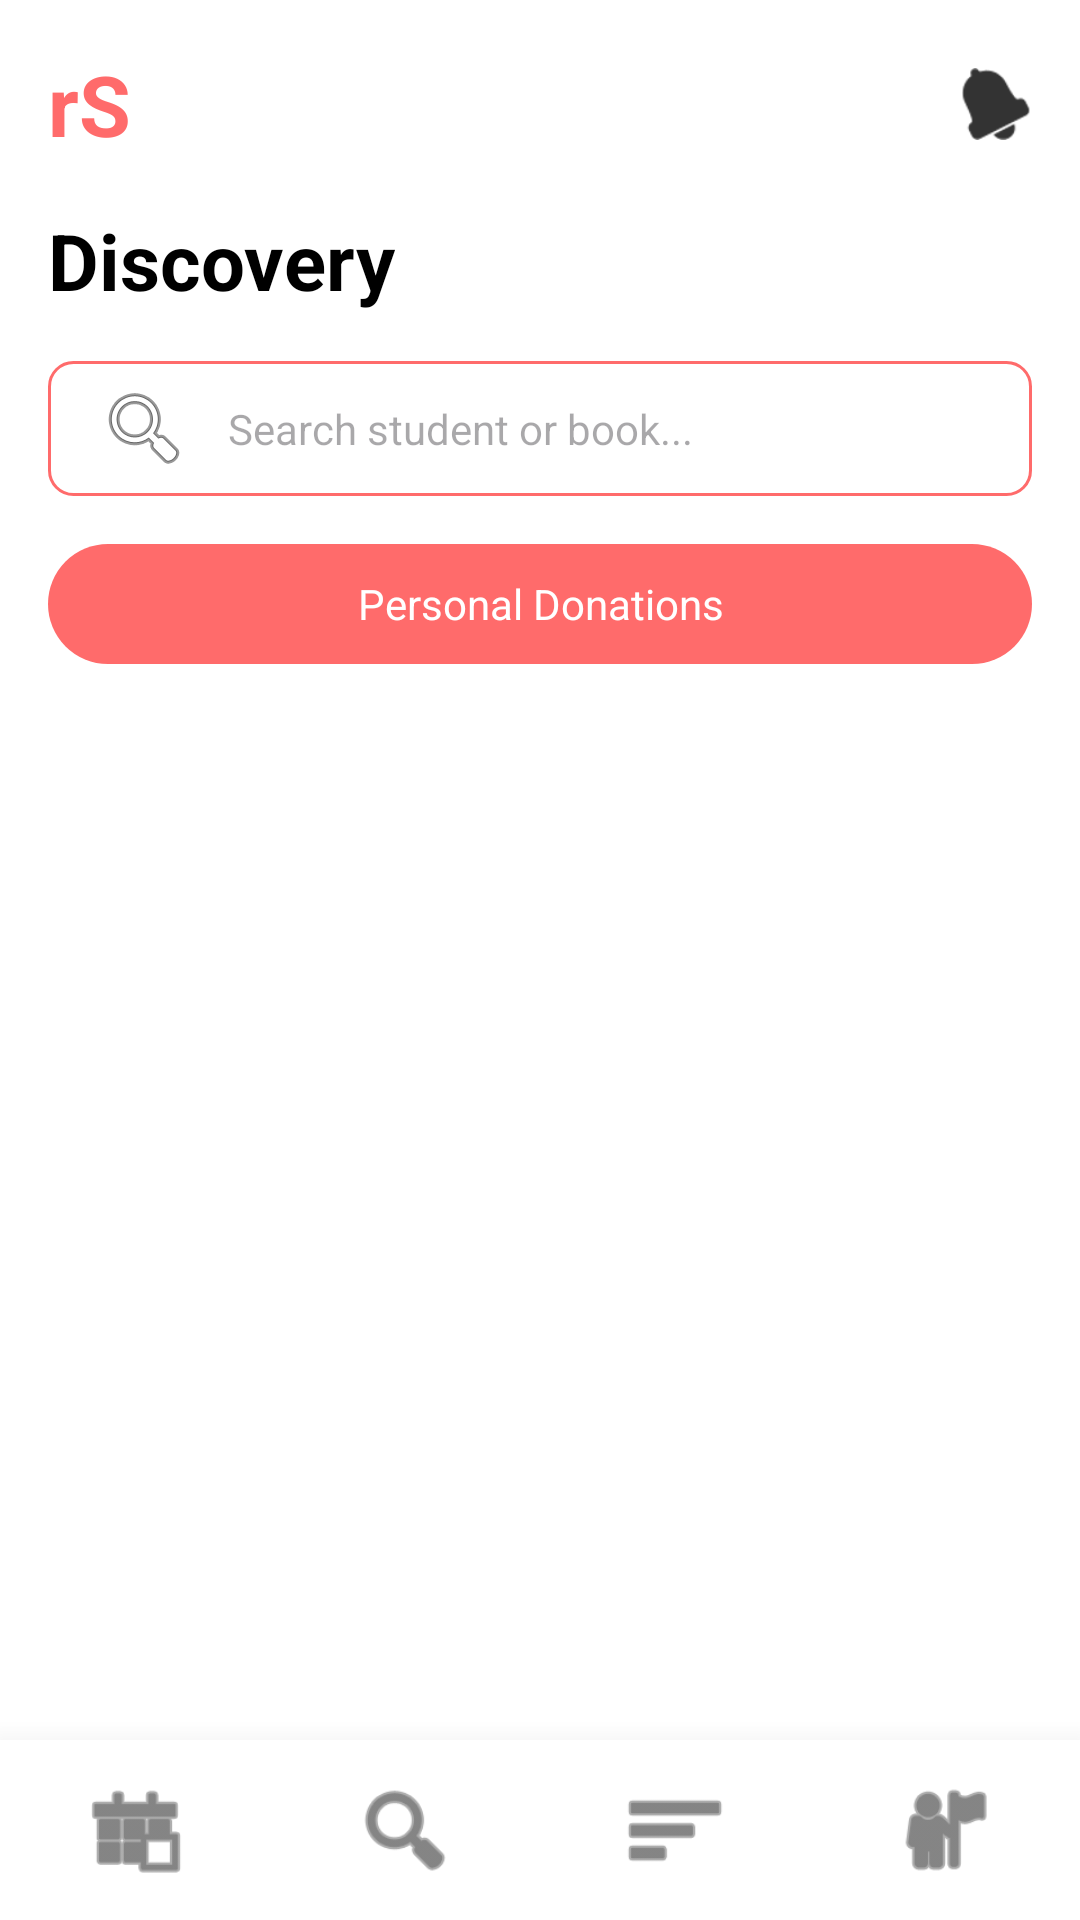

Icon bounding boxes for this 1080w x 1920h phone screenshot, format bbox(x1, y1, x2, y2):
myplaces: bbox(906, 1790, 987, 1870)
popup reminder: bbox(962, 68, 1030, 140)
search: bbox(365, 1790, 445, 1871)
sort by size: bbox(628, 1800, 722, 1861)
today: bbox(92, 1791, 180, 1873)
